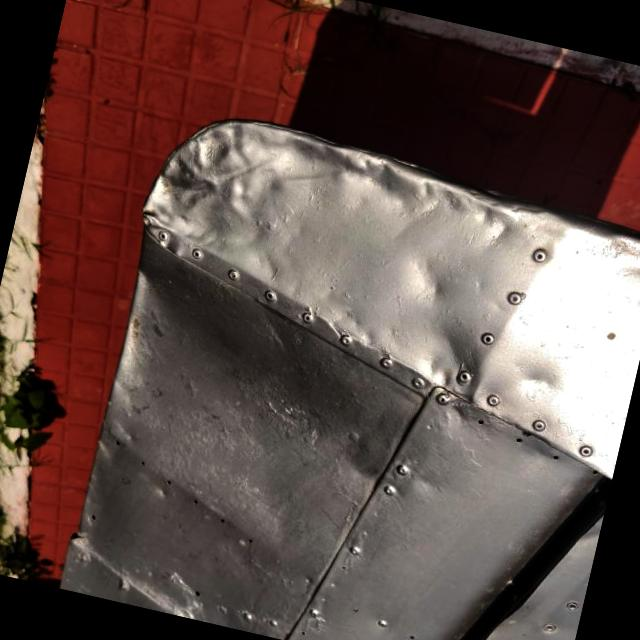dent: (261, 98, 544, 268), (128, 102, 301, 274), (407, 310, 512, 421), (384, 236, 470, 320), (492, 342, 576, 426)
